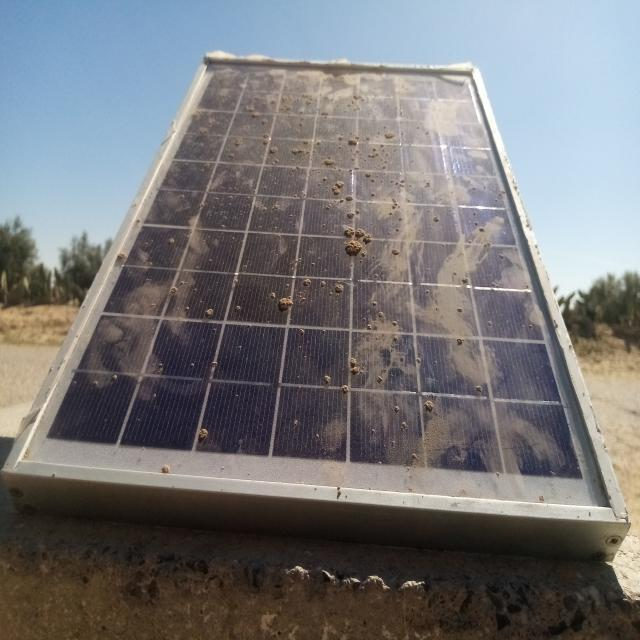faulty: (12, 57, 622, 515)
